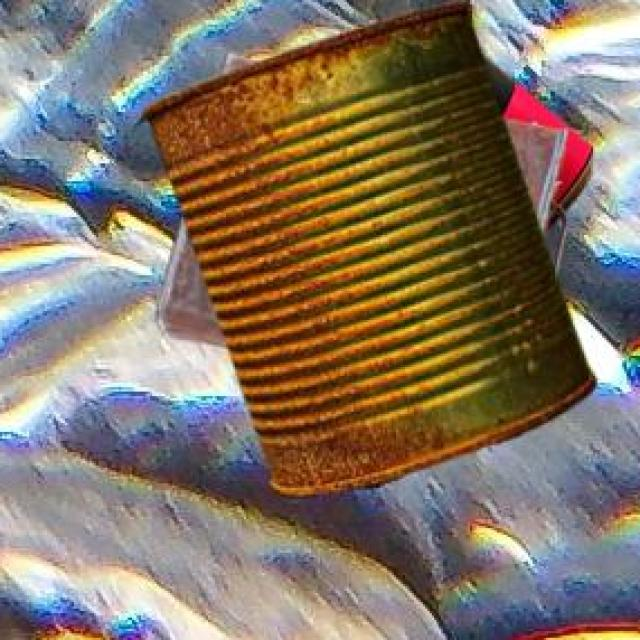logam: (140, 0, 592, 493), (153, 50, 563, 343), (484, 60, 590, 225)
